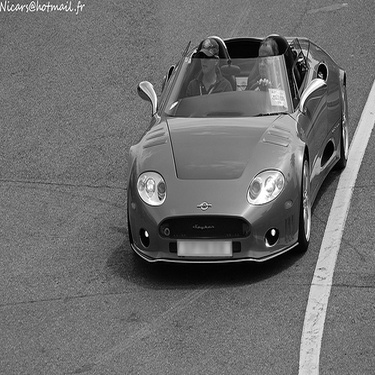car: (104, 28, 355, 268)
